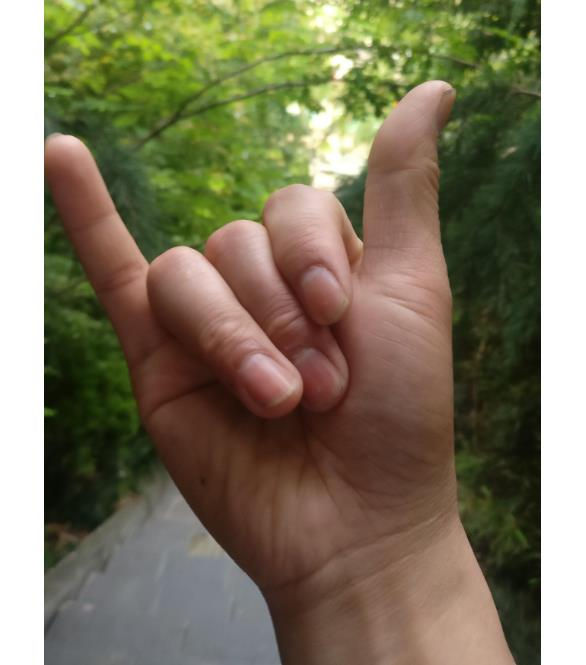back: (47, 72, 467, 541)
